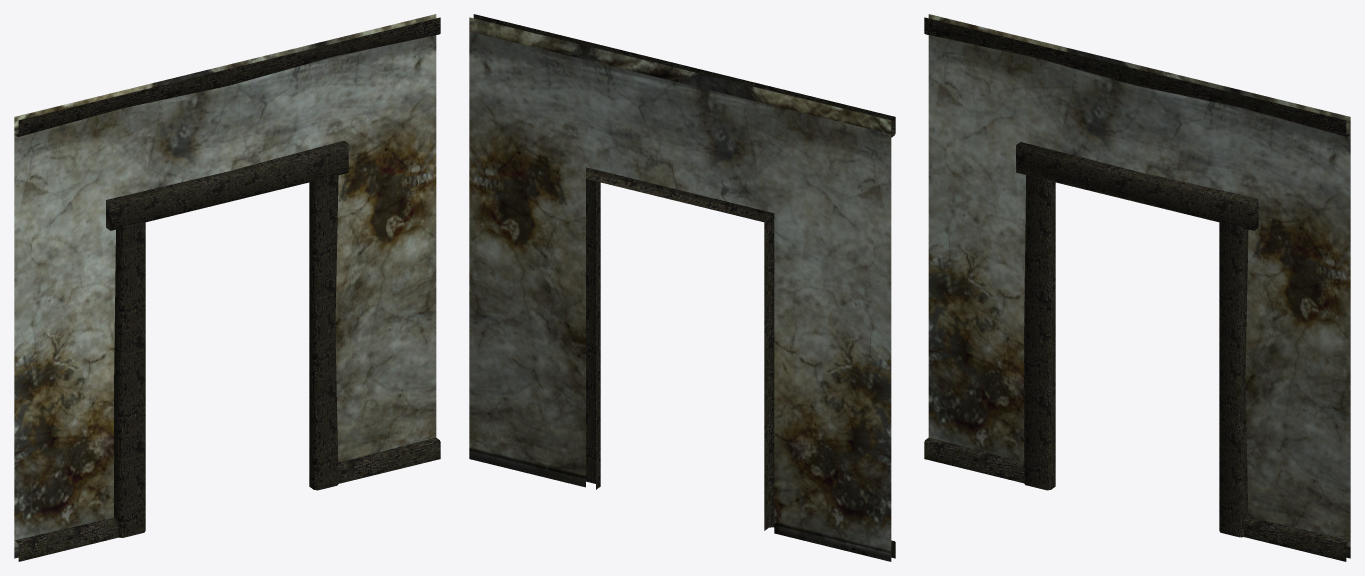
The model's file is cellar_wall_03_doorway.DAE.
3 views of the same model, side by side, from view 1: azimuth 30°, elevation 25°; view 2: azimuth 150°, elevation 25°; view 3: azimuth 330°, elevation 25° (orthographic).
Visible parts, largest first — view 1: Box018, Box016; view 2: Box018, Box016; view 3: Box018, Box016.
Part boxes in pixels (bbox=[...]): Box018: bbox=[14, 14, 436, 558]; Box016: bbox=[14, 17, 440, 561]; Box018: bbox=[469, 17, 891, 561]; Box016: bbox=[473, 14, 895, 558]; Box018: bbox=[928, 14, 1350, 558]; Box016: bbox=[924, 17, 1350, 561].
Bounding box in the file's own units: 4 × 4 × 0.1.
